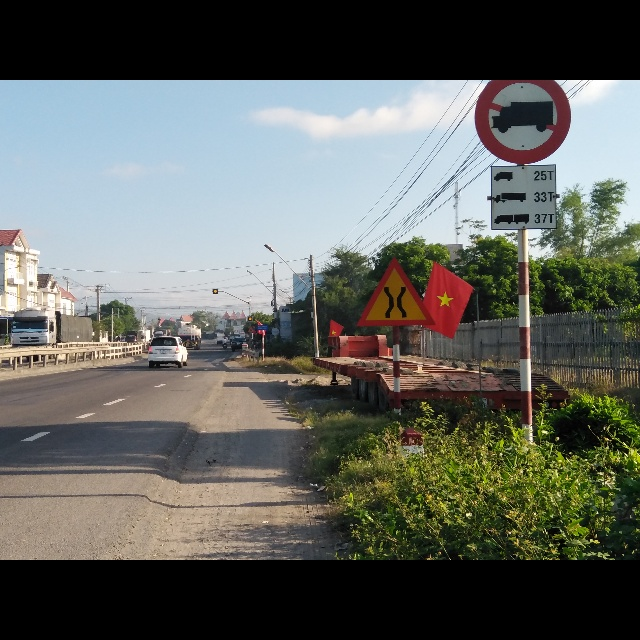Cấm xe tải: (473, 79, 572, 162)
Cầu hẹp: (356, 253, 433, 328)
